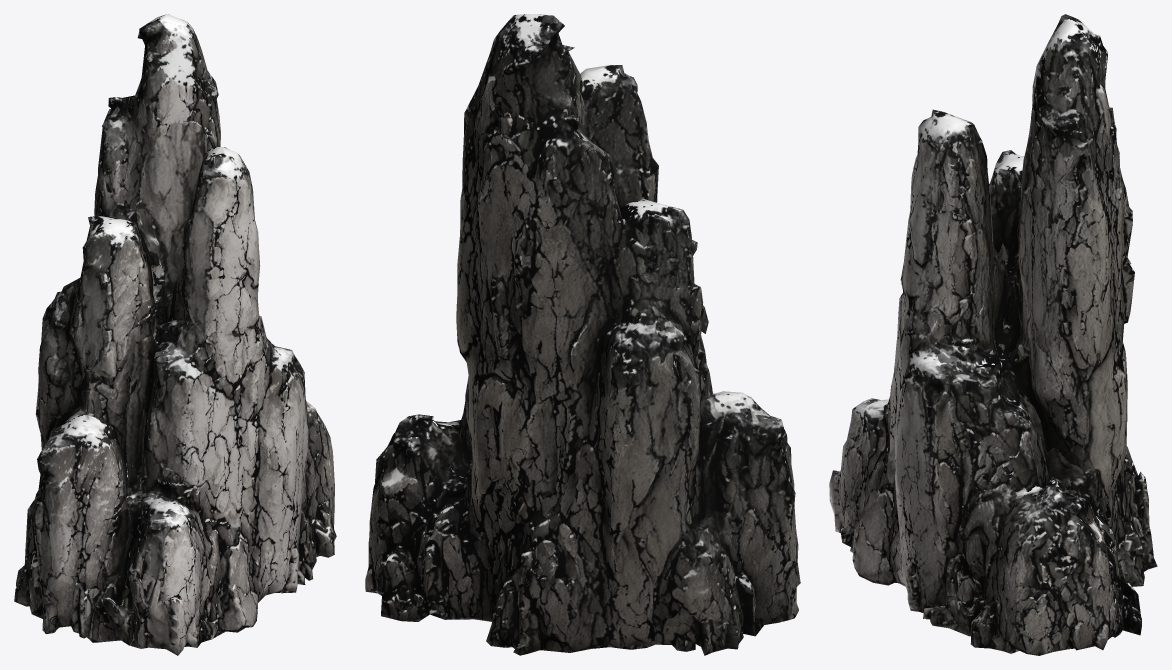
File: InkPart03_TwinPeaks.fbx
3 renders of one model, left to right at view 1: azimuth 30°, elevation 25°; view 2: azimuth 150°, elevation 25°; view 3: azimuth 270°, elevation 25°, orthographic. The views are drawn at different scales.
Parts seen in each view (by area): view 1: texture_mapping; view 2: texture_mapping; view 3: texture_mapping.
Part boxes in pixels (x1,y1,x2,y2): texture_mapping: [14, 14, 336, 655]; texture_mapping: [365, 14, 800, 655]; texture_mapping: [829, 14, 1157, 655].
Size of the model in its own units: 0.6409 by 0.5259 by 0.9963.
Materials: 1 (1 with a texture image).
